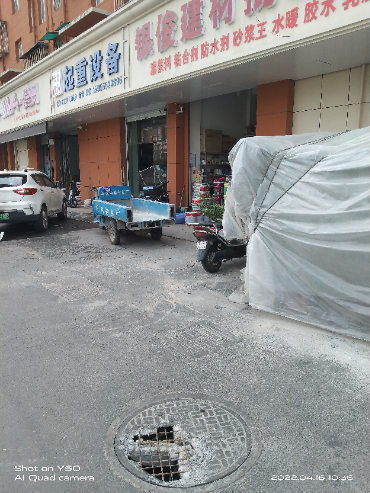broke: (104, 394, 262, 493)
